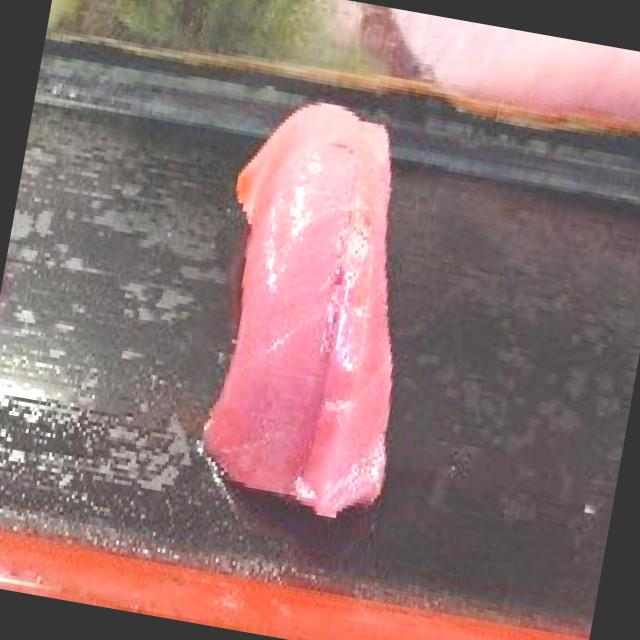Sushi: (184, 84, 450, 528)
